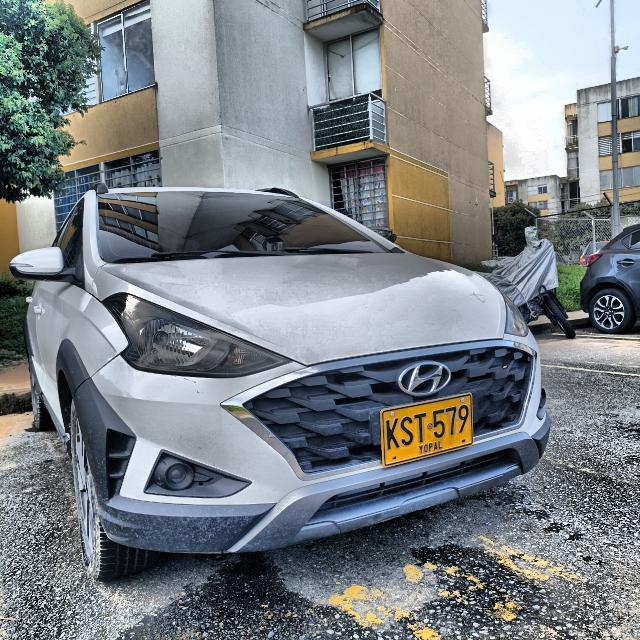plate: (382, 394, 472, 466)
